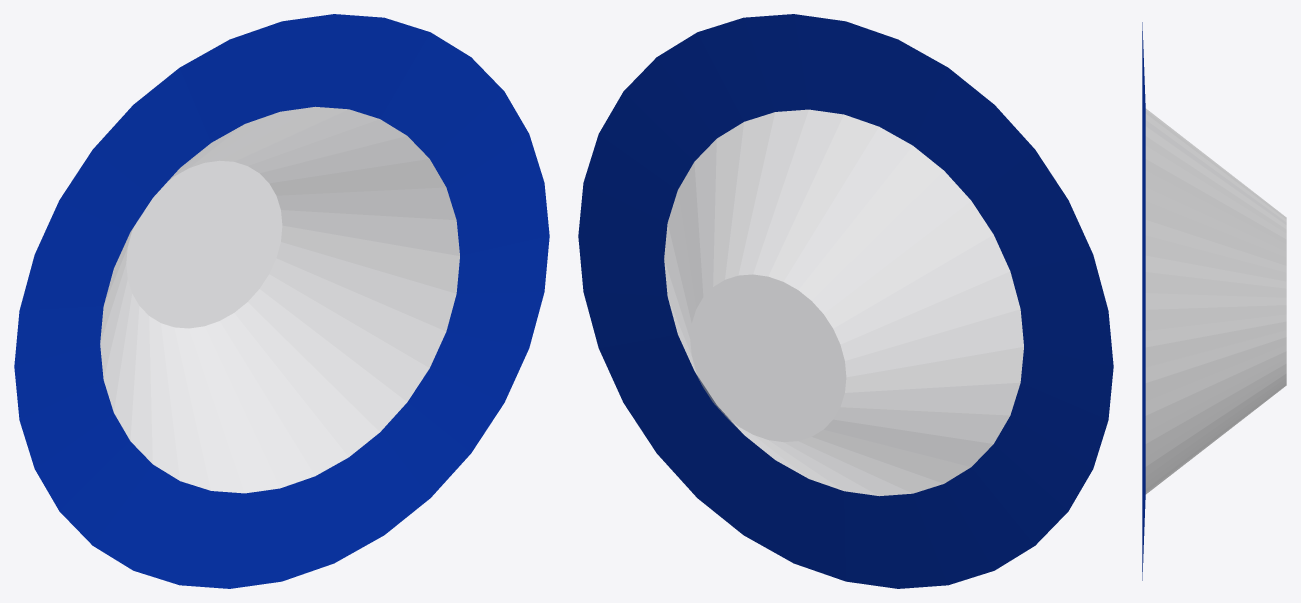
Rendered from bubble_body.dae.
3 views of the same model, side by side, from view 1: azimuth 30°, elevation 25°; view 2: azimuth 150°, elevation 25°; view 3: azimuth 270°, elevation 25° (orthographic). The views are drawn at different scales.
Parts seen in each view (by area): view 1: body; view 2: body; view 3: body.
Boxes of the visible parts, bbox=[...] form: body: bbox=[14, 14, 549, 588]; body: bbox=[578, 14, 1113, 588]; body: bbox=[1142, 22, 1286, 580].
Size of the model in its own units: 0.7138 by 0.1793 by 0.7138.
